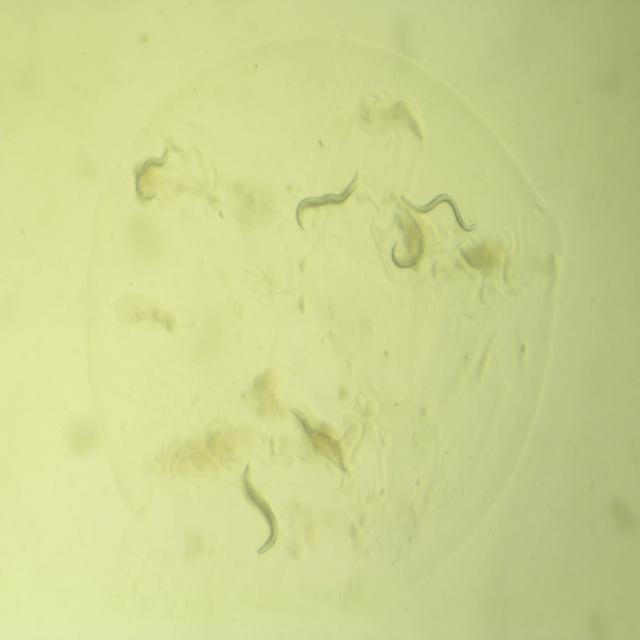worm: (229, 454, 288, 572), (284, 396, 356, 487), (291, 165, 366, 240), (398, 182, 484, 242), (120, 139, 180, 224), (379, 196, 433, 289)
